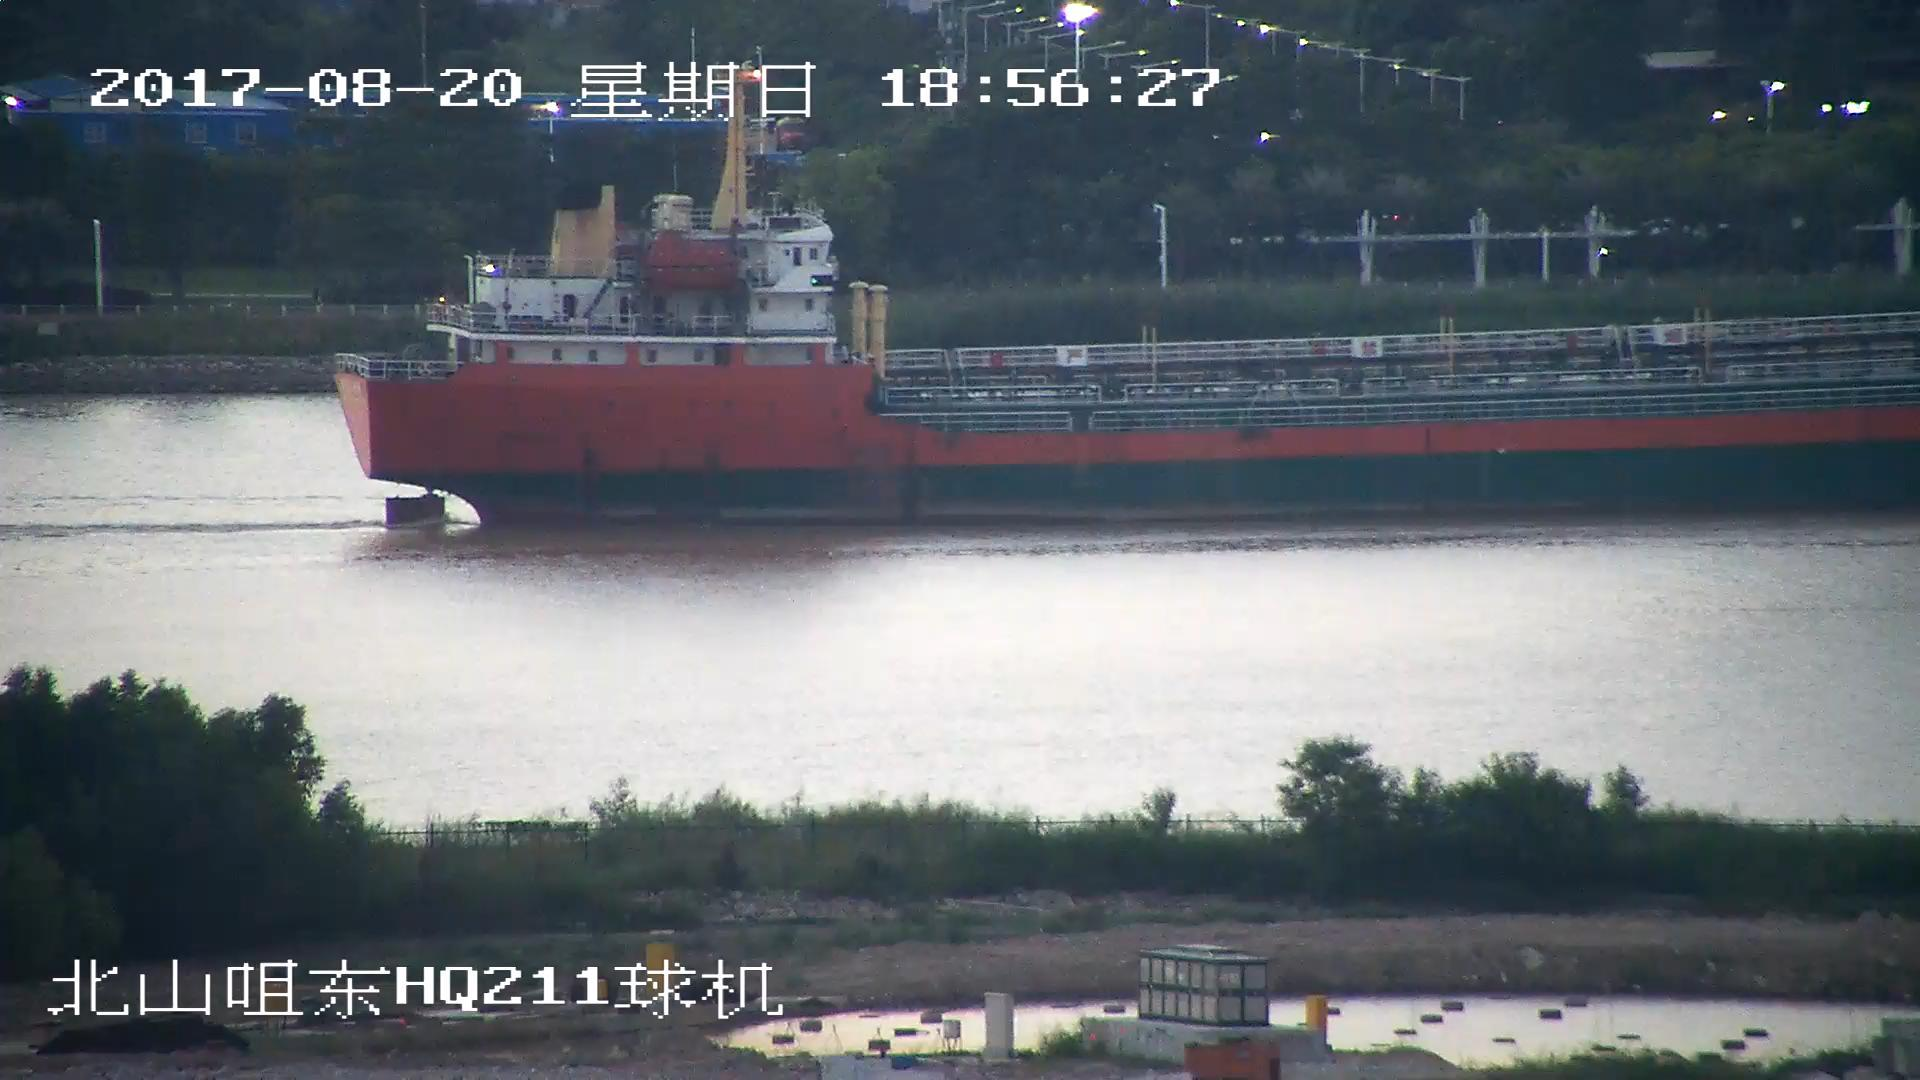Ship: (332, 113, 1920, 534)
